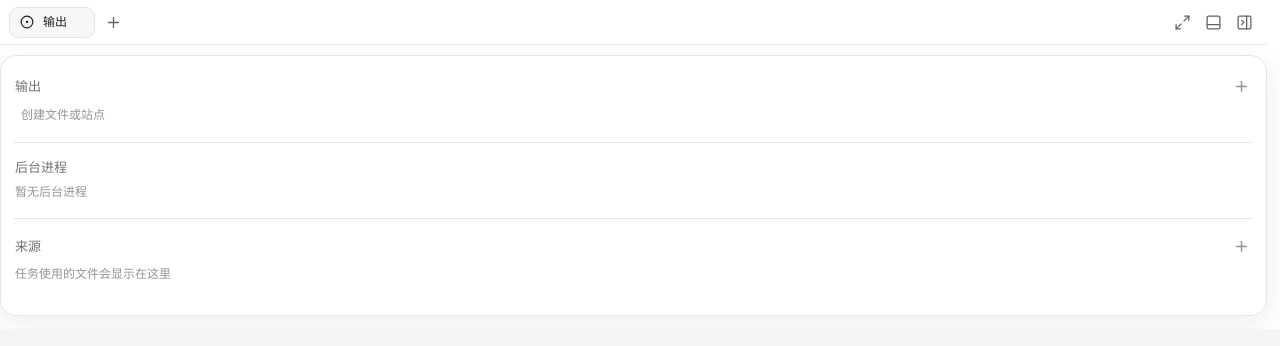
UtilityPane toolbar › uses a Codex-style active tab and new-tab launcher
Expected: the tab with aria-label "当前侧面板：输出" is shown, [9,6,95,38]
Click the button named "新建侧面板标签".
click(113, 22)  # box [99,8,127,36]
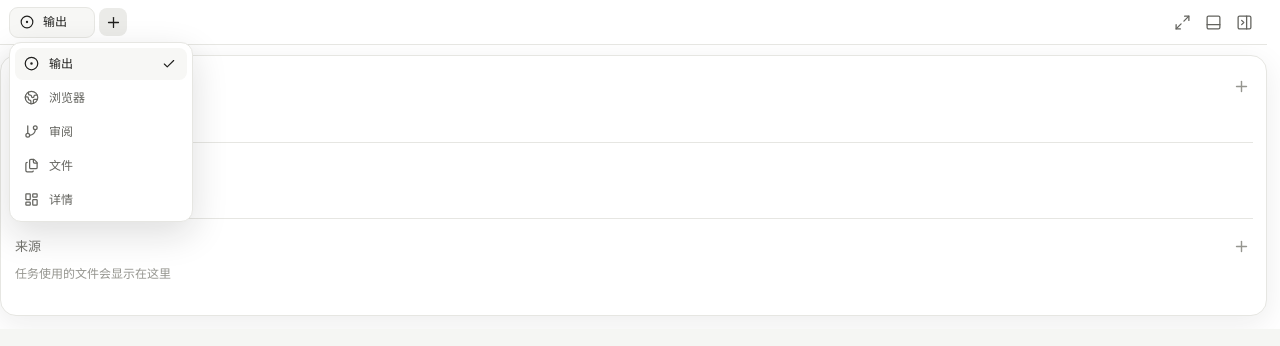
Now the number of menu items is 5
Click the menu item "文件".
click(101, 166)  # box [15,150,187,182]
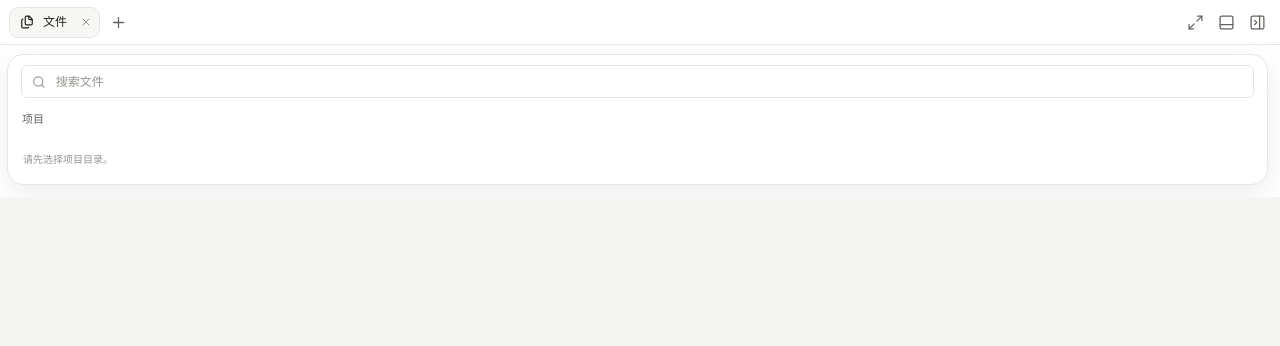
Now the menu is gone
